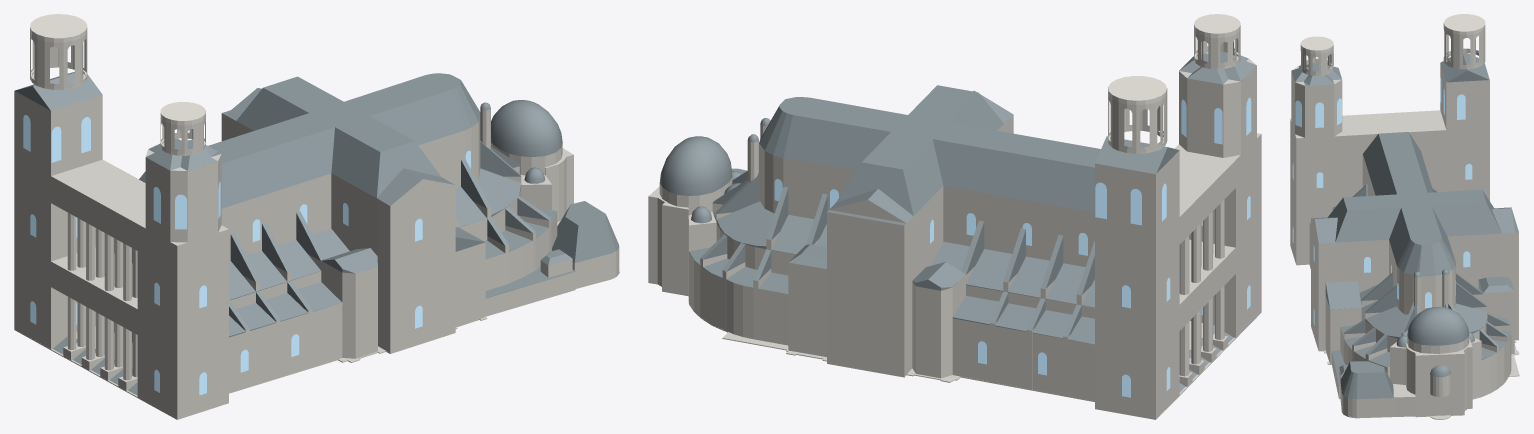
3 renders of one model, left to right at view 1: azimuth 30°, elevation 25°; view 2: azimuth 150°, elevation 25°; view 3: azimuth 270°, elevation 25°, orthographic. The views are drawn at different scales.
Visible parts, largest first — view 1: stone, roof, window, trim; view 2: stone, roof, window, trim; view 3: stone, roof, window, trim.
Part boxes in pixels (bbox=[...]): stone: bbox=[14, 32, 619, 419]; roof: bbox=[15, 72, 619, 395]; window: bbox=[23, 115, 470, 395]; trim: bbox=[30, 14, 205, 155]; stone: bbox=[648, 29, 1261, 419]; roof: bbox=[659, 51, 1256, 392]; window: bbox=[774, 97, 1251, 397]; trim: bbox=[1108, 14, 1240, 153]; stone: bbox=[1290, 26, 1519, 419]; roof: bbox=[1291, 53, 1518, 399]; window: bbox=[1292, 77, 1472, 325]; trim: bbox=[1300, 14, 1485, 75].
Size of the model in its own units: 125 by 70.3 by 65.58.
